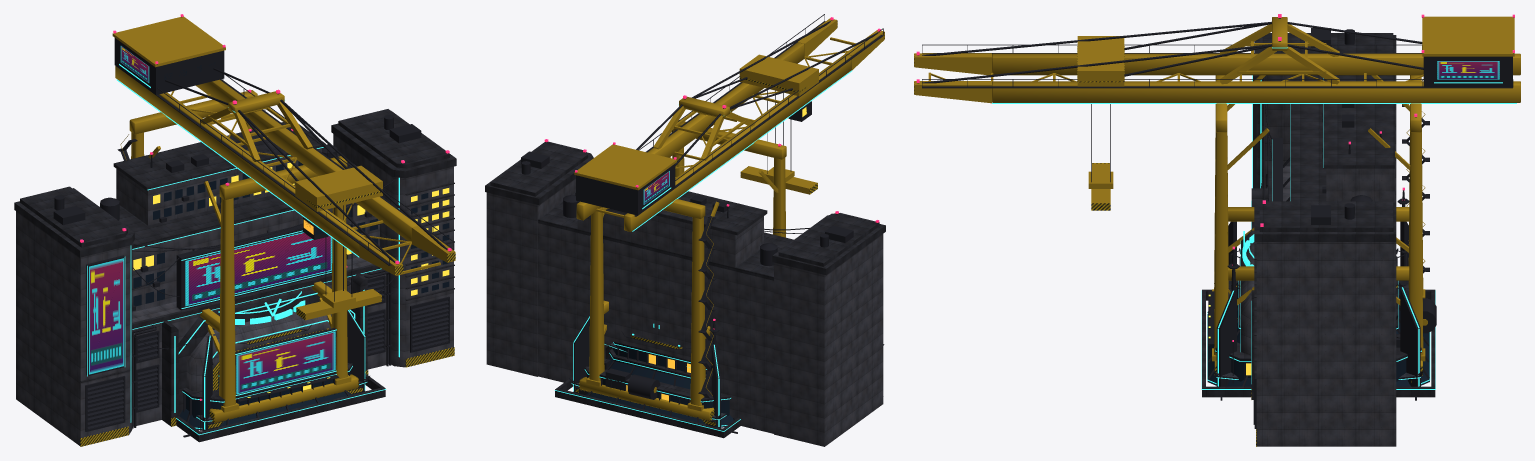
The model's file is arch.glb.
3 renders of one model, left to right at view 1: azimuth 30°, elevation 25°; view 2: azimuth 150°, elevation 25°; view 3: azimuth 270°, elevation 25°, orthographic. The views are drawn at different scales.
Visible parts, largest first — view 1: tunnel_portal, crane_port, tower_crown_a, tower_crown_c, tower_crown_b; view 2: tunnel_portal, crane_port, tower_crown_a, tower_crown_b; view 3: tunnel_portal, crane_port, tower_crown_a, tower_crown_b.
Part boxes in pixels (x1,y1,x2,y2): tunnel_portal: (14, 109, 456, 446); crane_port: (112, 14, 455, 437); tower_crown_a: (176, 266, 386, 442); tower_crown_c: (199, 328, 339, 431); tower_crown_b: (179, 291, 352, 430); tunnel_portal: (485, 139, 885, 446); crane_port: (567, 14, 884, 433); tower_crown_a: (554, 316, 740, 438); tower_crown_b: (585, 323, 734, 427); tunnel_portal: (1240, 28, 1396, 446); crane_port: (914, 14, 1520, 400); tower_crown_a: (1201, 187, 1435, 397); tower_crown_b: (1207, 231, 1430, 386).
Size of the model in its own units: 60.59 by 49.39 by 78.03.
Materials: 12 (6 with a texture image).
